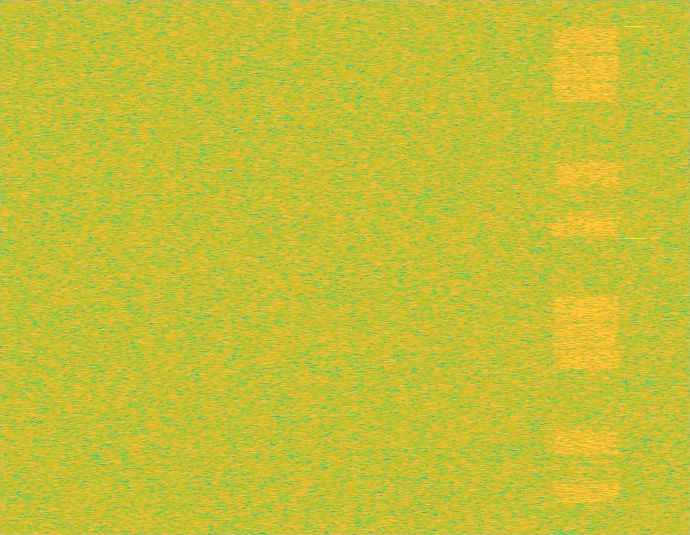LTE: (552, 0, 621, 534)
Radar: (629, 0, 642, 534)
